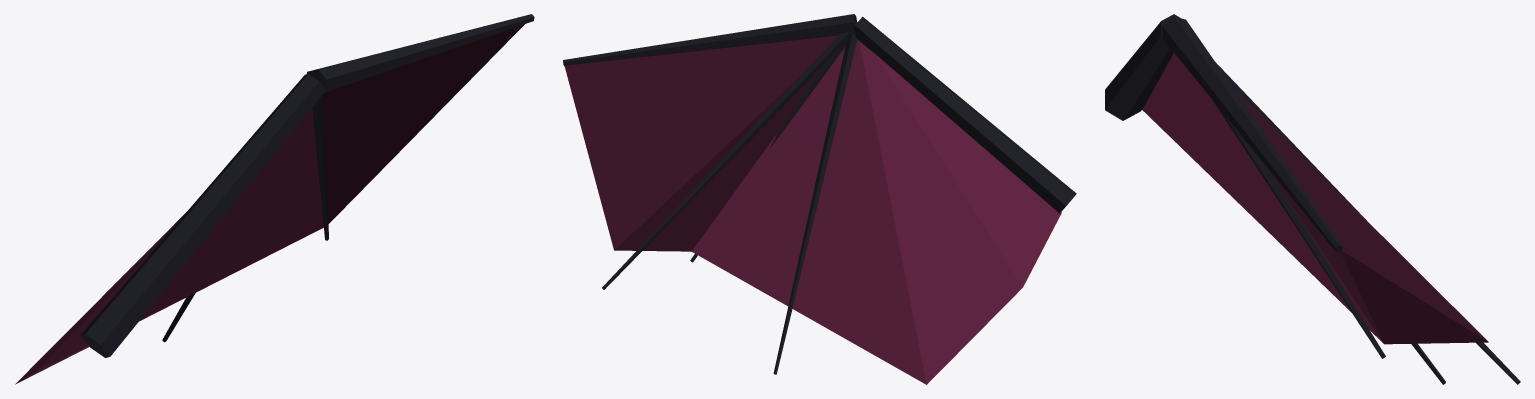
Rendered from dragon_1_wing_l.glb.
The picture shows the model from 3 angles, left to right: view 1: azimuth 30°, elevation 25°; view 2: azimuth 150°, elevation 25°; view 3: azimuth 270°, elevation 25°; orthographic projection. The views are drawn at different scales.
Parts seen in each view (by area): view 1: dragon_1_wing_l; view 2: dragon_1_wing_l; view 3: dragon_1_wing_l.
Part boxes in pixels (x1,y1,x2,y2): dragon_1_wing_l: [15, 14, 534, 384]; dragon_1_wing_l: [563, 14, 1076, 384]; dragon_1_wing_l: [1105, 14, 1520, 384].
Bounding box in the file's own units: 2.25 × 1.4 × 1.39.
